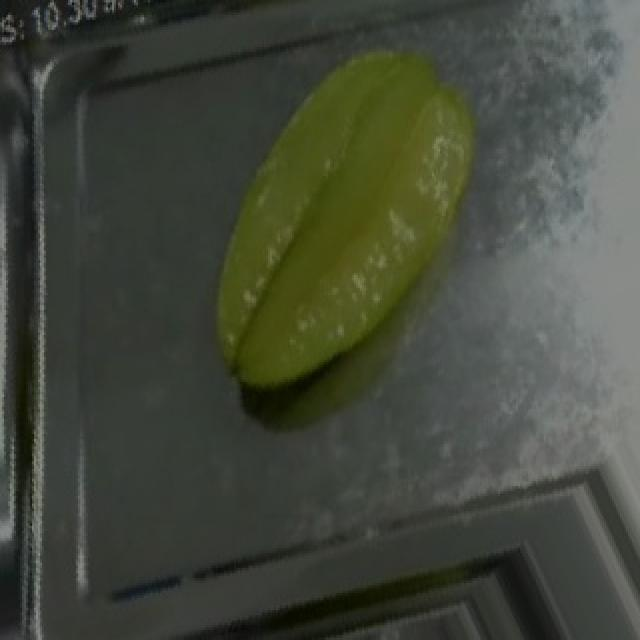fruit: (202, 5, 546, 417)
